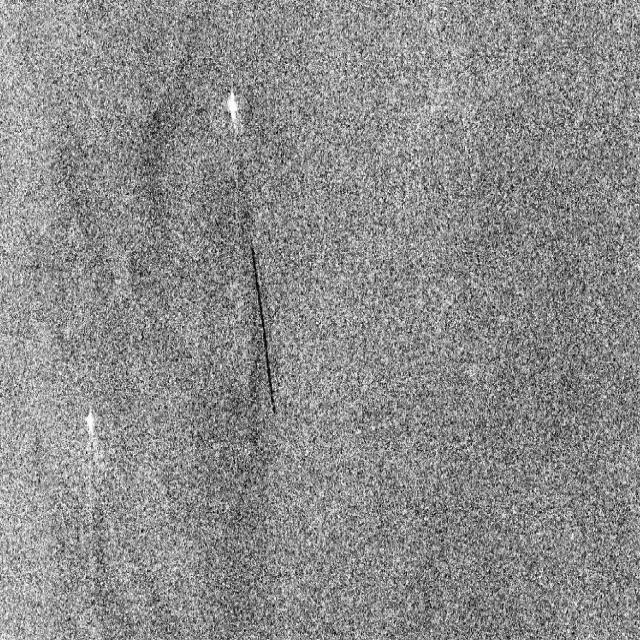oil-spill: (240, 237, 289, 424)
ship: (218, 78, 244, 132), (81, 403, 96, 438)
